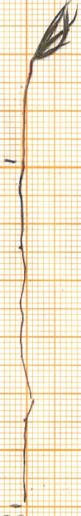flower: (22, 0, 80, 67)
root: (12, 166, 32, 506)
stem: (17, 69, 36, 162)
